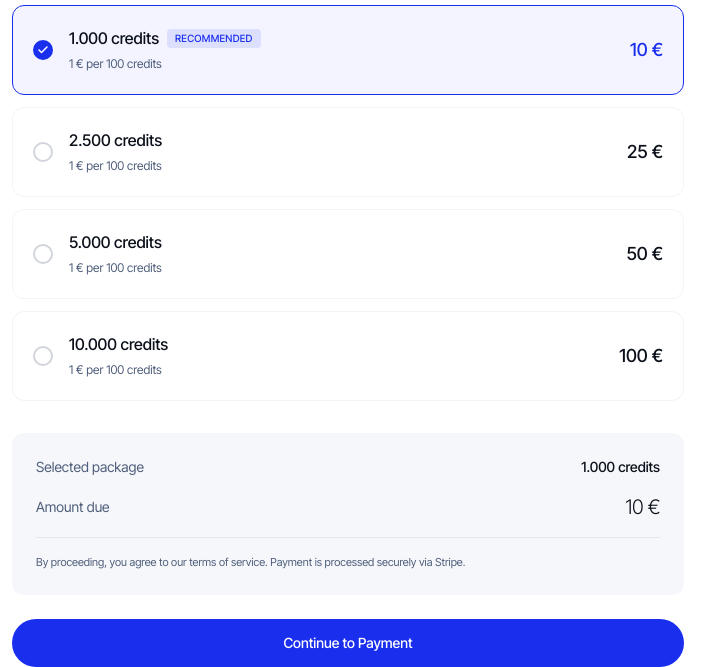
Scenario: TopUpPage › Checkout flow - Error handling › should show error when user is not logged in
The image size is (701, 667).
(page scrolled)
Click the button "Continue to Payment": (348, 642) x1=12 y1=618 x2=684 y2=666
(page scrolled)
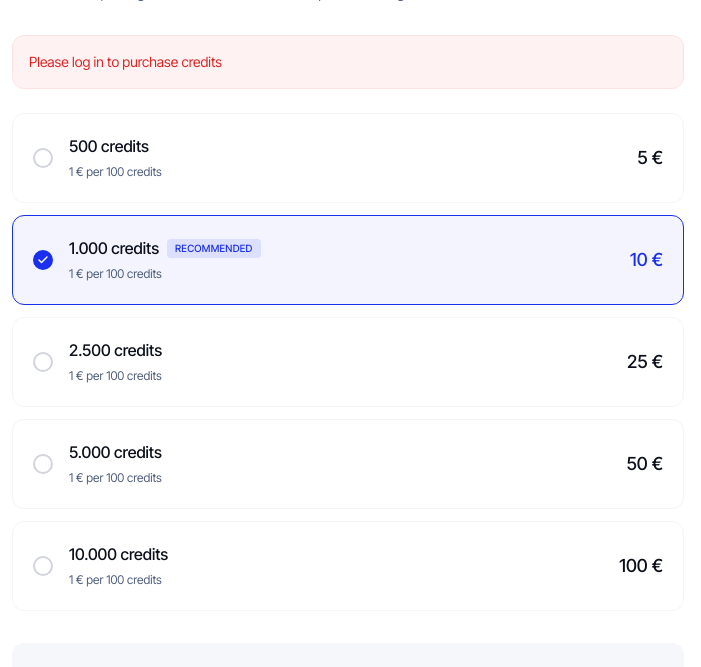
Result: the text "Please log in to purchase credits" is shown at x1=12 y1=35 x2=684 y2=89
